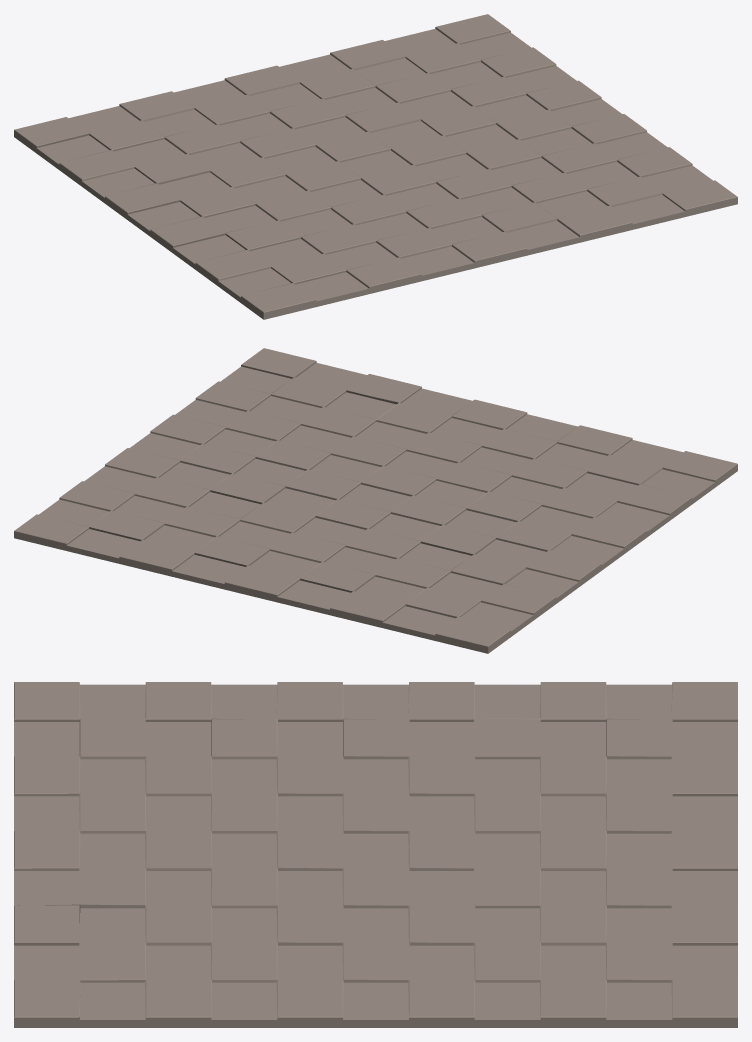
The model's file is floor_6.obj.
3 views of the same model, one above another, from view 1: azimuth 30°, elevation 25°; view 2: azimuth 150°, elevation 25°; view 3: azimuth 270°, elevation 25° (orthographic). The views are drawn at different scales.
Visible parts, largest first — view 1: floor_6; view 2: floor_6; view 3: floor_6.
Boxes of the visible parts, left/top/right/bottom form: floor_6: left=14, top=14, right=737, bottom=319; floor_6: left=14, top=348, right=737, bottom=653; floor_6: left=14, top=682, right=737, bottom=1027.
Size of the model in its own units: 1.53 by 0.0245 by 1.4.
